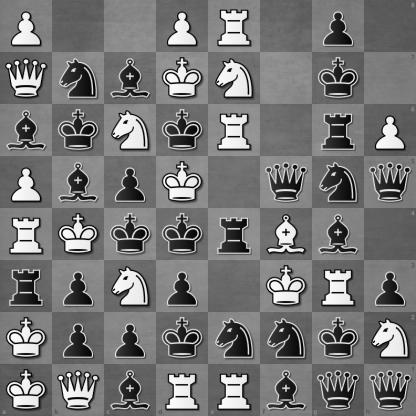B: (261, 209, 312, 260)
K: (0, 364, 52, 416), (1, 313, 52, 364), (53, 209, 104, 260), (157, 53, 208, 104), (157, 157, 208, 208), (261, 261, 312, 312)
N: (364, 312, 416, 364), (105, 105, 156, 156), (105, 261, 156, 312), (209, 53, 260, 104)
P: (364, 104, 416, 156), (1, 1, 52, 52), (1, 157, 52, 208), (157, 1, 208, 52)
Q: (52, 364, 104, 416), (1, 53, 52, 104)
R: (156, 364, 209, 416), (209, 364, 260, 416), (1, 209, 52, 260), (209, 1, 260, 52), (209, 105, 260, 156), (313, 261, 364, 312)
b: (104, 364, 156, 416), (260, 364, 312, 416), (1, 105, 52, 156), (53, 157, 104, 208), (105, 53, 156, 104), (313, 209, 364, 260)
board: (0, 0, 415, 415)
k: (53, 105, 104, 156), (105, 209, 156, 260), (157, 105, 208, 156), (157, 209, 208, 260), (157, 313, 208, 364), (313, 53, 364, 104), (313, 313, 364, 364)
n: (53, 53, 104, 104), (209, 313, 260, 364), (261, 313, 312, 364), (313, 157, 364, 208)
p: (364, 260, 416, 312), (53, 261, 104, 312), (53, 313, 104, 364), (105, 157, 156, 208), (105, 313, 156, 364), (157, 261, 208, 312), (313, 1, 364, 52)
q: (364, 156, 416, 209), (312, 364, 364, 416), (364, 364, 416, 416), (261, 157, 312, 208)
r: (1, 261, 52, 312), (209, 209, 260, 260), (313, 105, 364, 156)
